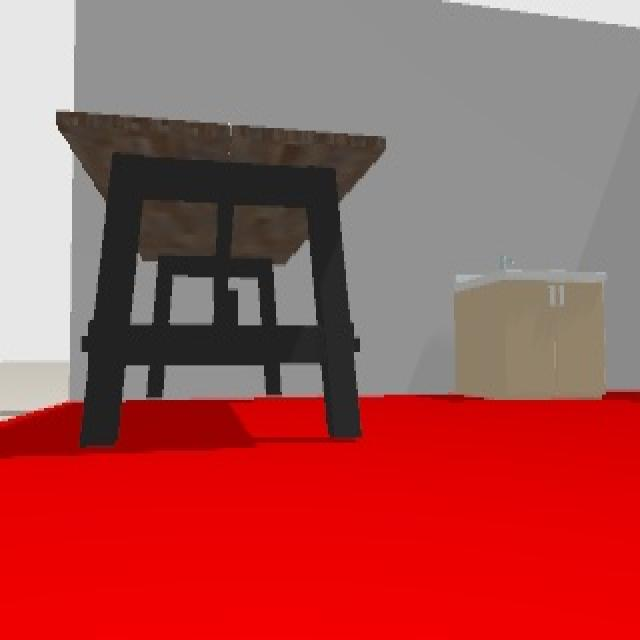dining: (59, 107, 388, 446)
